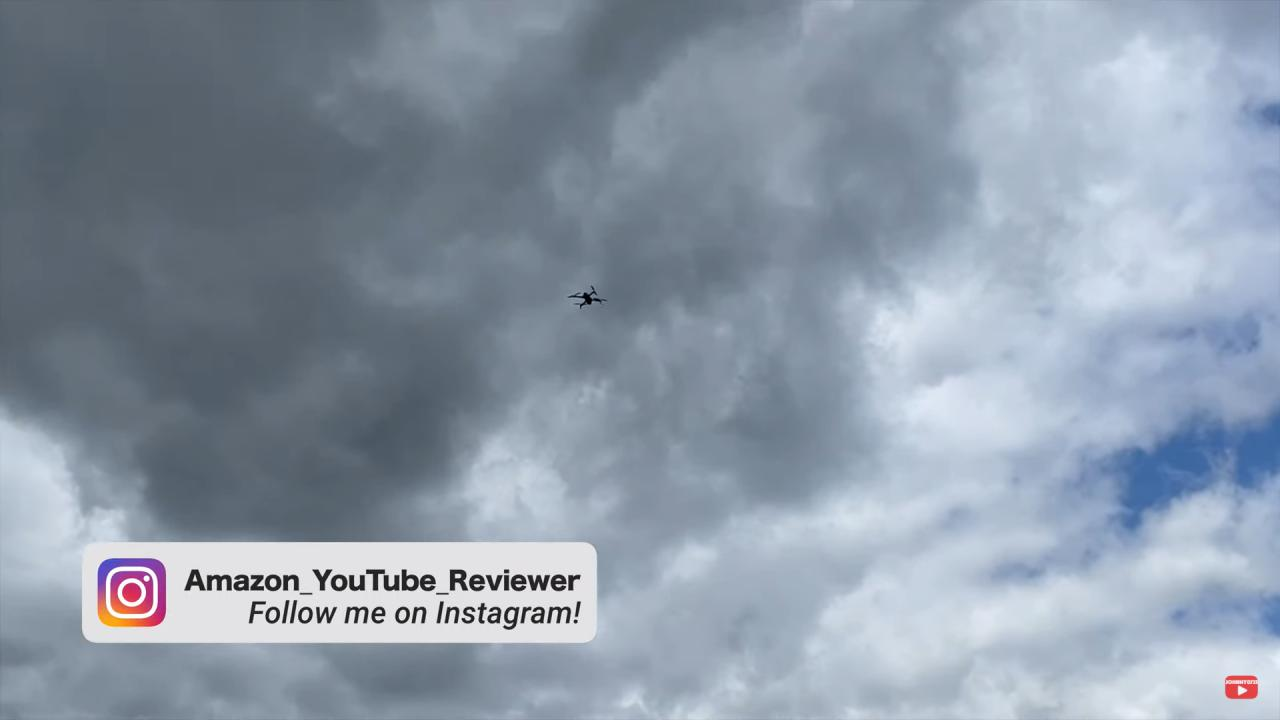Drone: (556, 277, 611, 320)
